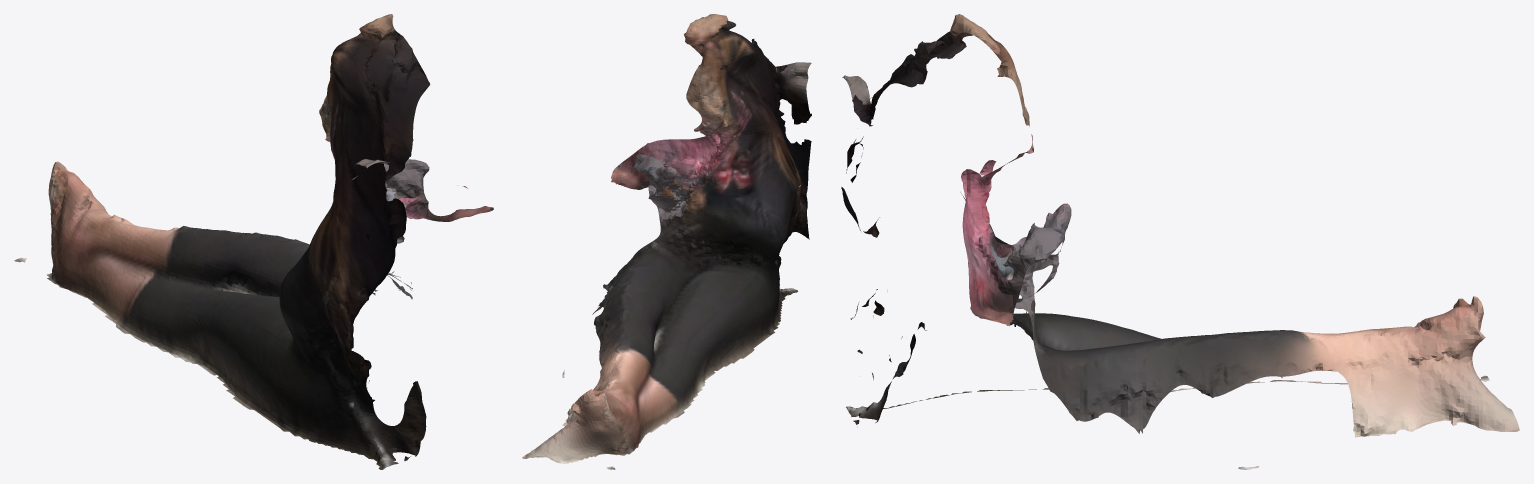
3 renders of one model, left to right at view 1: azimuth 30°, elevation 25°; view 2: azimuth 150°, elevation 25°; view 3: azimuth 270°, elevation 25°, orthographic. The views are drawn at different scales.
Size of the model in its own units: 0.5078 by 0.8089 by 1.2.
Materials: 1 (1 with a texture image).
